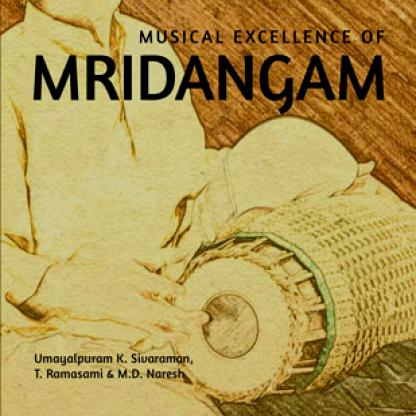Mridangam: (157, 206, 416, 414)
